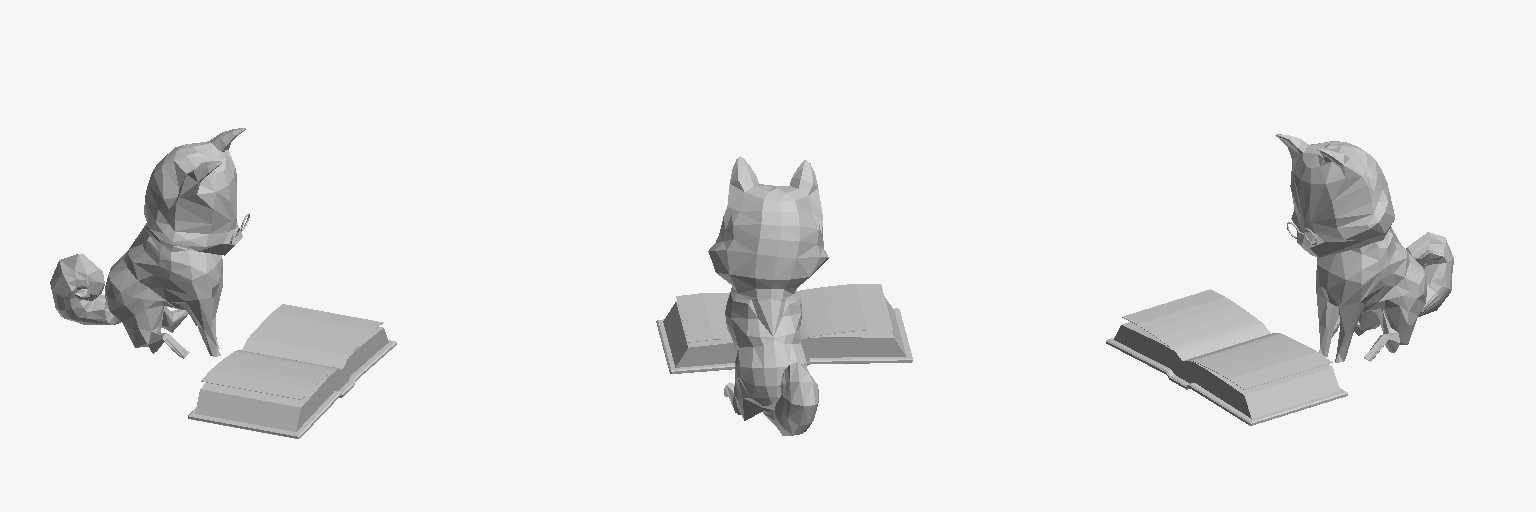
Rendered from book_frame13.obj.
3 views of the same model, side by side, from view 1: azimuth 30°, elevation 25°; view 2: azimuth 150°, elevation 25°; view 3: azimuth 270°, elevation 25° (orthographic).
Visible parts, largest first — view 1: StidyGlasses_Computer_Sitting:Sitting:newRigging:BodzL1, polySurface1; view 2: StidyGlasses_Computer_Sitting:Sitting:newRigging:BodzL1, polySurface1; view 3: StidyGlasses_Computer_Sitting:Sitting:newRigging:BodzL1, polySurface1.
Part boxes in pixels (x1,y1,x2,y2): StidyGlasses_Computer_Sitting:Sitting:newRigging:BodzL1: (50, 128, 245, 358); polySurface1: (188, 304, 396, 438); StidyGlasses_Computer_Sitting:Sitting:newRigging:BodzL1: (708, 156, 828, 435); polySurface1: (656, 284, 912, 373); StidyGlasses_Computer_Sitting:Sitting:newRigging:BodzL1: (1276, 134, 1453, 362); polySurface1: (1106, 289, 1347, 425).
Size of the model in its own units: 9.18 by 7.76 by 11.01.